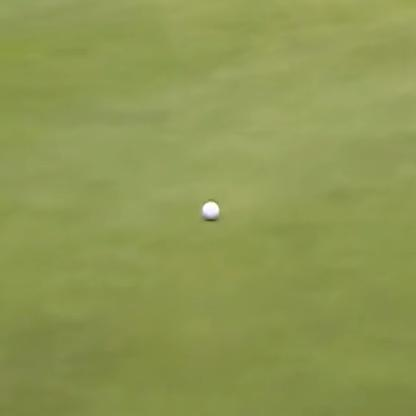golfball: (198, 193, 217, 217)
